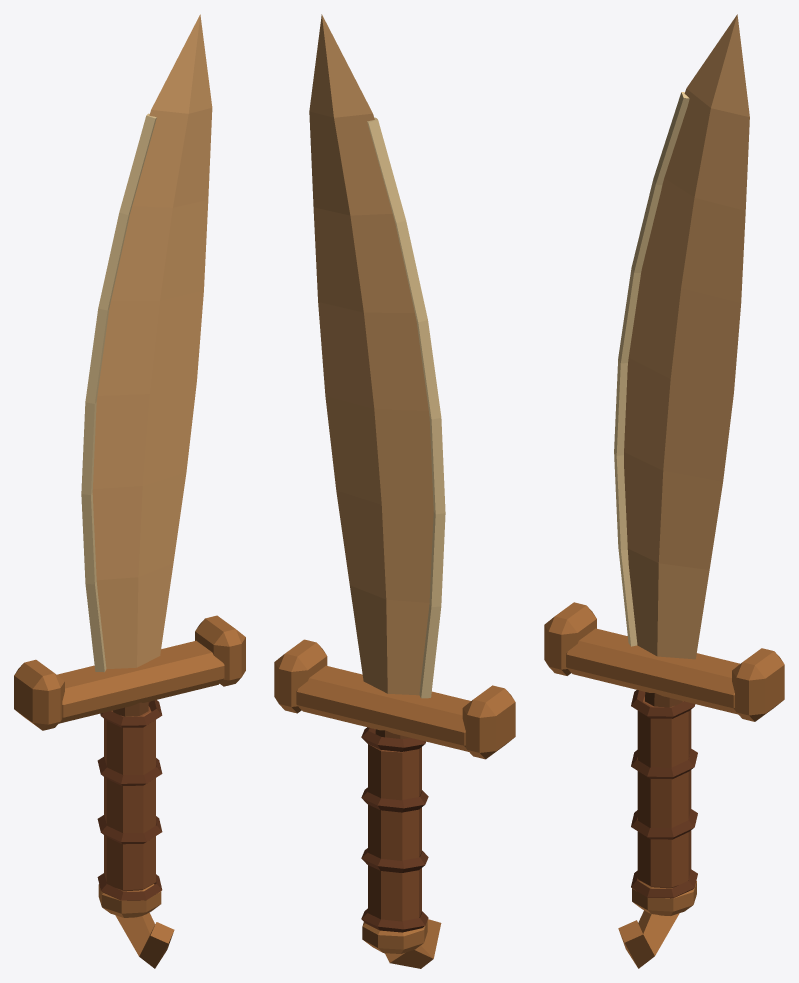
Rendered from WoodScimitar.fbx.
The picture shows the model from 3 angles, left to right: view 1: azimuth 30°, elevation 25°; view 2: azimuth 150°, elevation 25°; view 3: azimuth 330°, elevation 25°; orthographic projection. The views are drawn at different scales.
Visible parts, largest first — view 1: WoodScimitar; view 2: WoodScimitar; view 3: WoodScimitar.
Part boxes in pixels (bbox=[...]): WoodScimitar: bbox=[14, 14, 245, 968]; WoodScimitar: bbox=[274, 14, 515, 968]; WoodScimitar: bbox=[544, 14, 784, 968].
Bounding box in the file's own units: 1.06 × 4.37 × 0.4747.
1 material, 1 textured.
